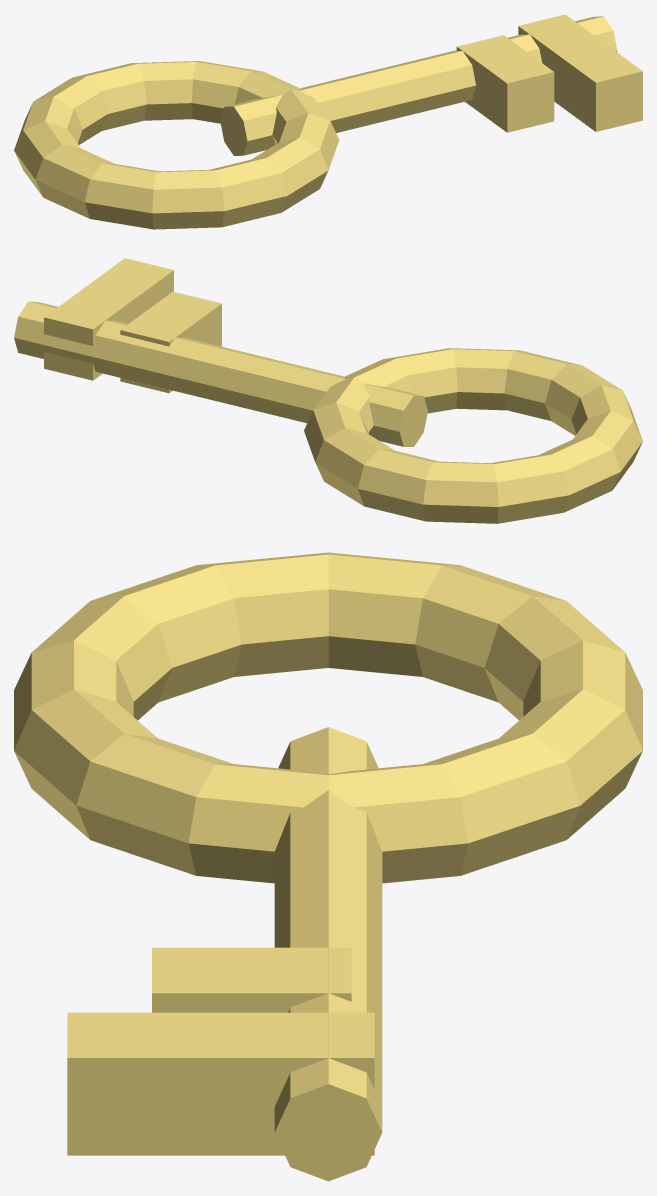
Rendered from key.glb.
The picture shows the model from 3 angles, top to bottom: view 1: azimuth 30°, elevation 25°; view 2: azimuth 150°, elevation 25°; view 3: azimuth 270°, elevation 25°; orthographic projection. The views are drawn at different scales.
Size of the model in its own units: 1.69 by 0.16 by 0.8189.
